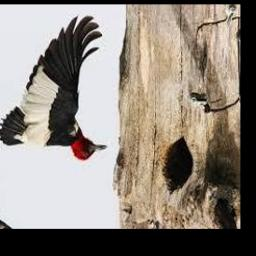Woodpecker: (0, 16, 106, 160)
